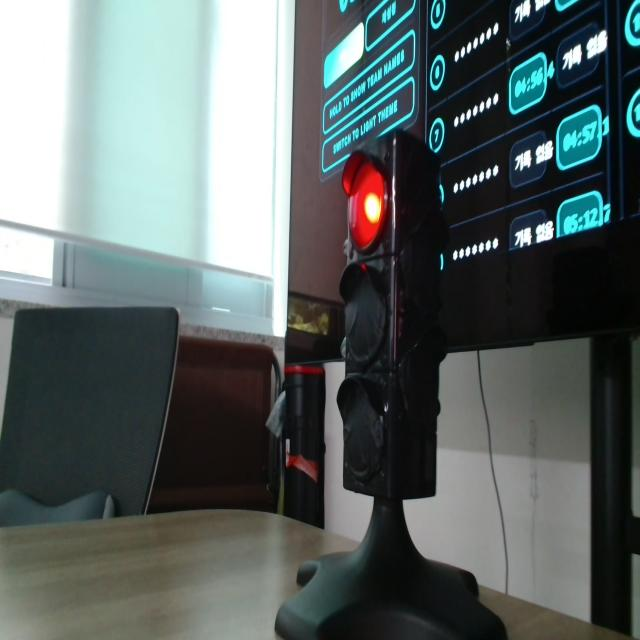red_light: (349, 162, 385, 250)
